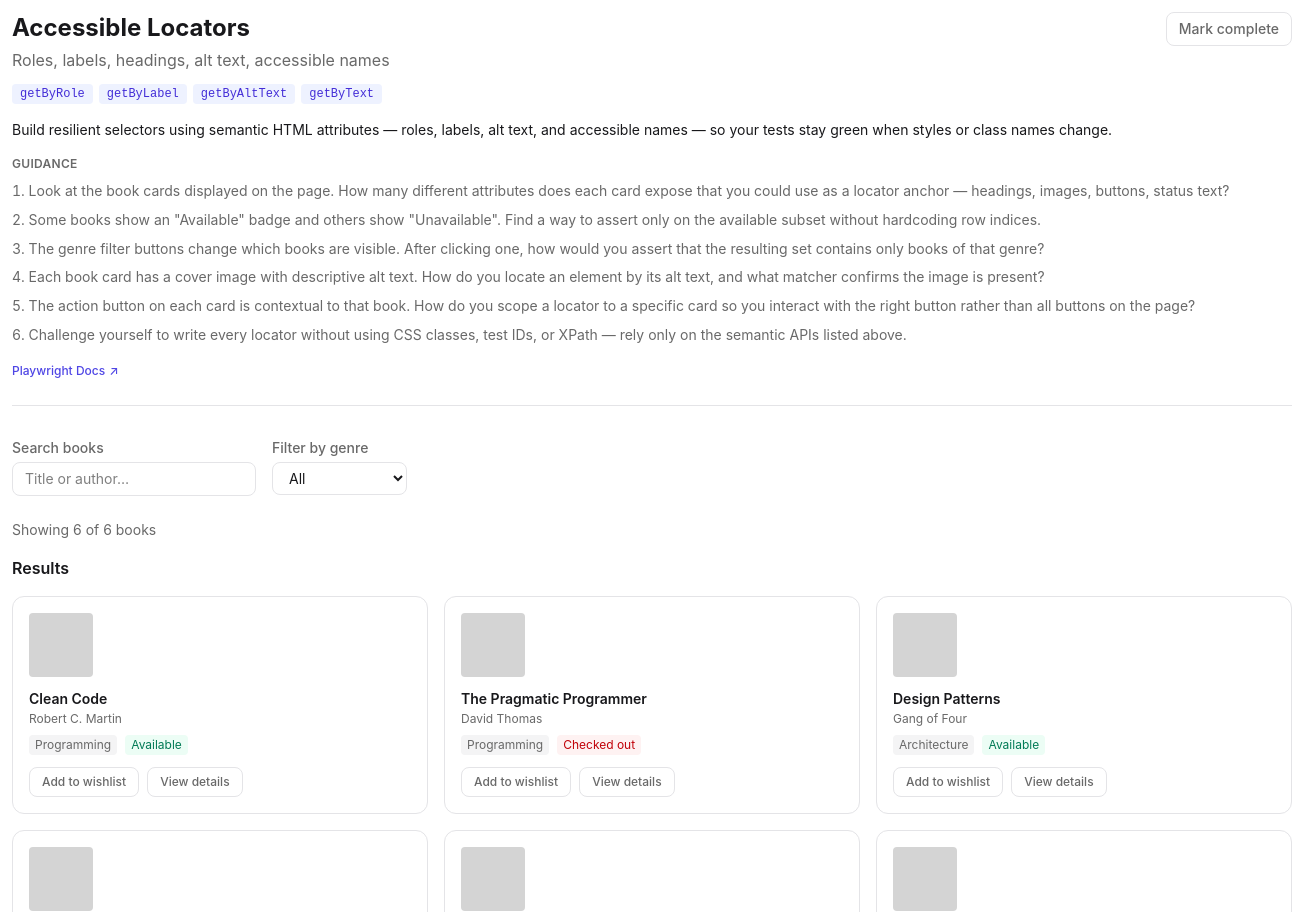
Test: AccessibleLocators › filters books by genre selection
Select "Architecture" in the dropdown labelled "Filter by genre" at [340, 478], box [272, 462, 407, 494]
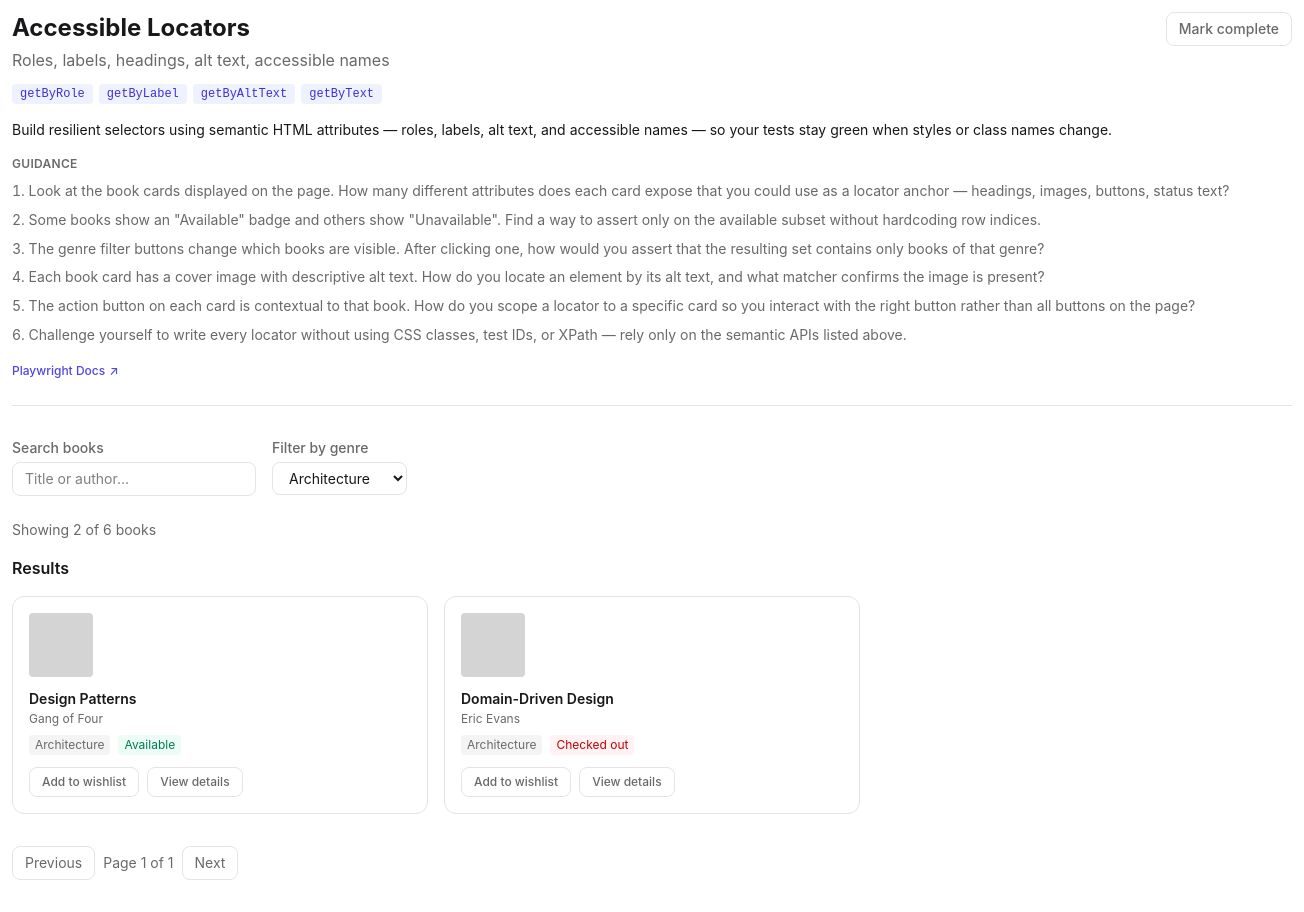
Expected: the heading "Design Patterns" is shown, [29, 690, 136, 706]
Expected: the message reads "Showing 2 of 6 books", [12, 520, 156, 538]
